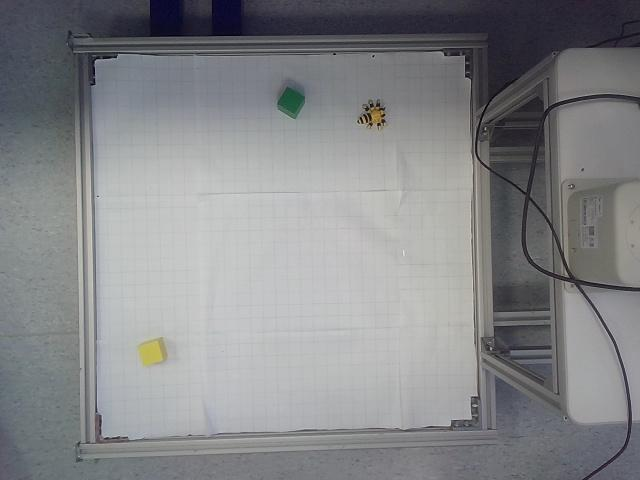frelon: (357, 99, 387, 131)
